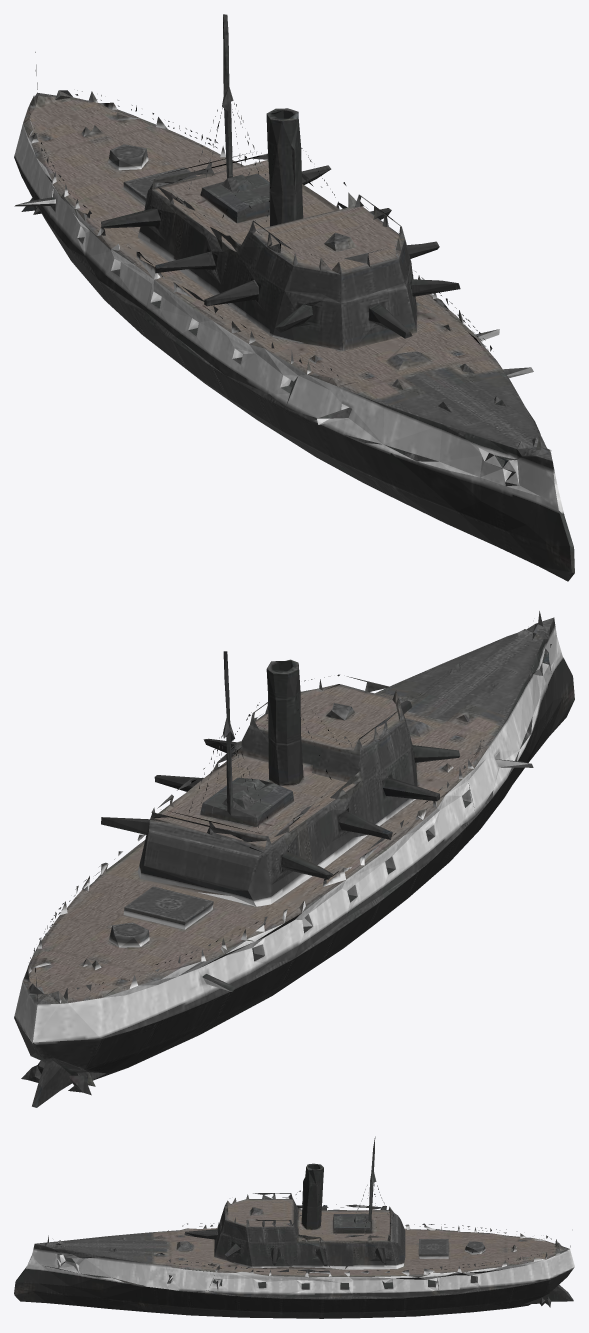
Rendered from ironclad.glb.
3 views of the same model, one above another, from view 1: azimuth 30°, elevation 25°; view 2: azimuth 150°, elevation 25°; view 3: azimuth 270°, elevation 25° (orthographic). The views are drawn at different scales.
Visible parts, largest first — view 1: ironclad; view 2: ironclad; view 3: ironclad.
Boxes of the visible parts, x1=… form: ironclad: x1=14, y1=14, x2=574, y2=581; ironclad: x1=14, y1=611, x2=574, y2=1107; ironclad: x1=14, y1=1136, x2=574, y2=1318.
Size of the model in its own units: 15.44 by 19.47 by 60.
2 materials, 2 textured.
